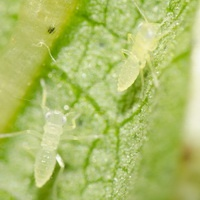insect: (48, 26, 54, 33)
